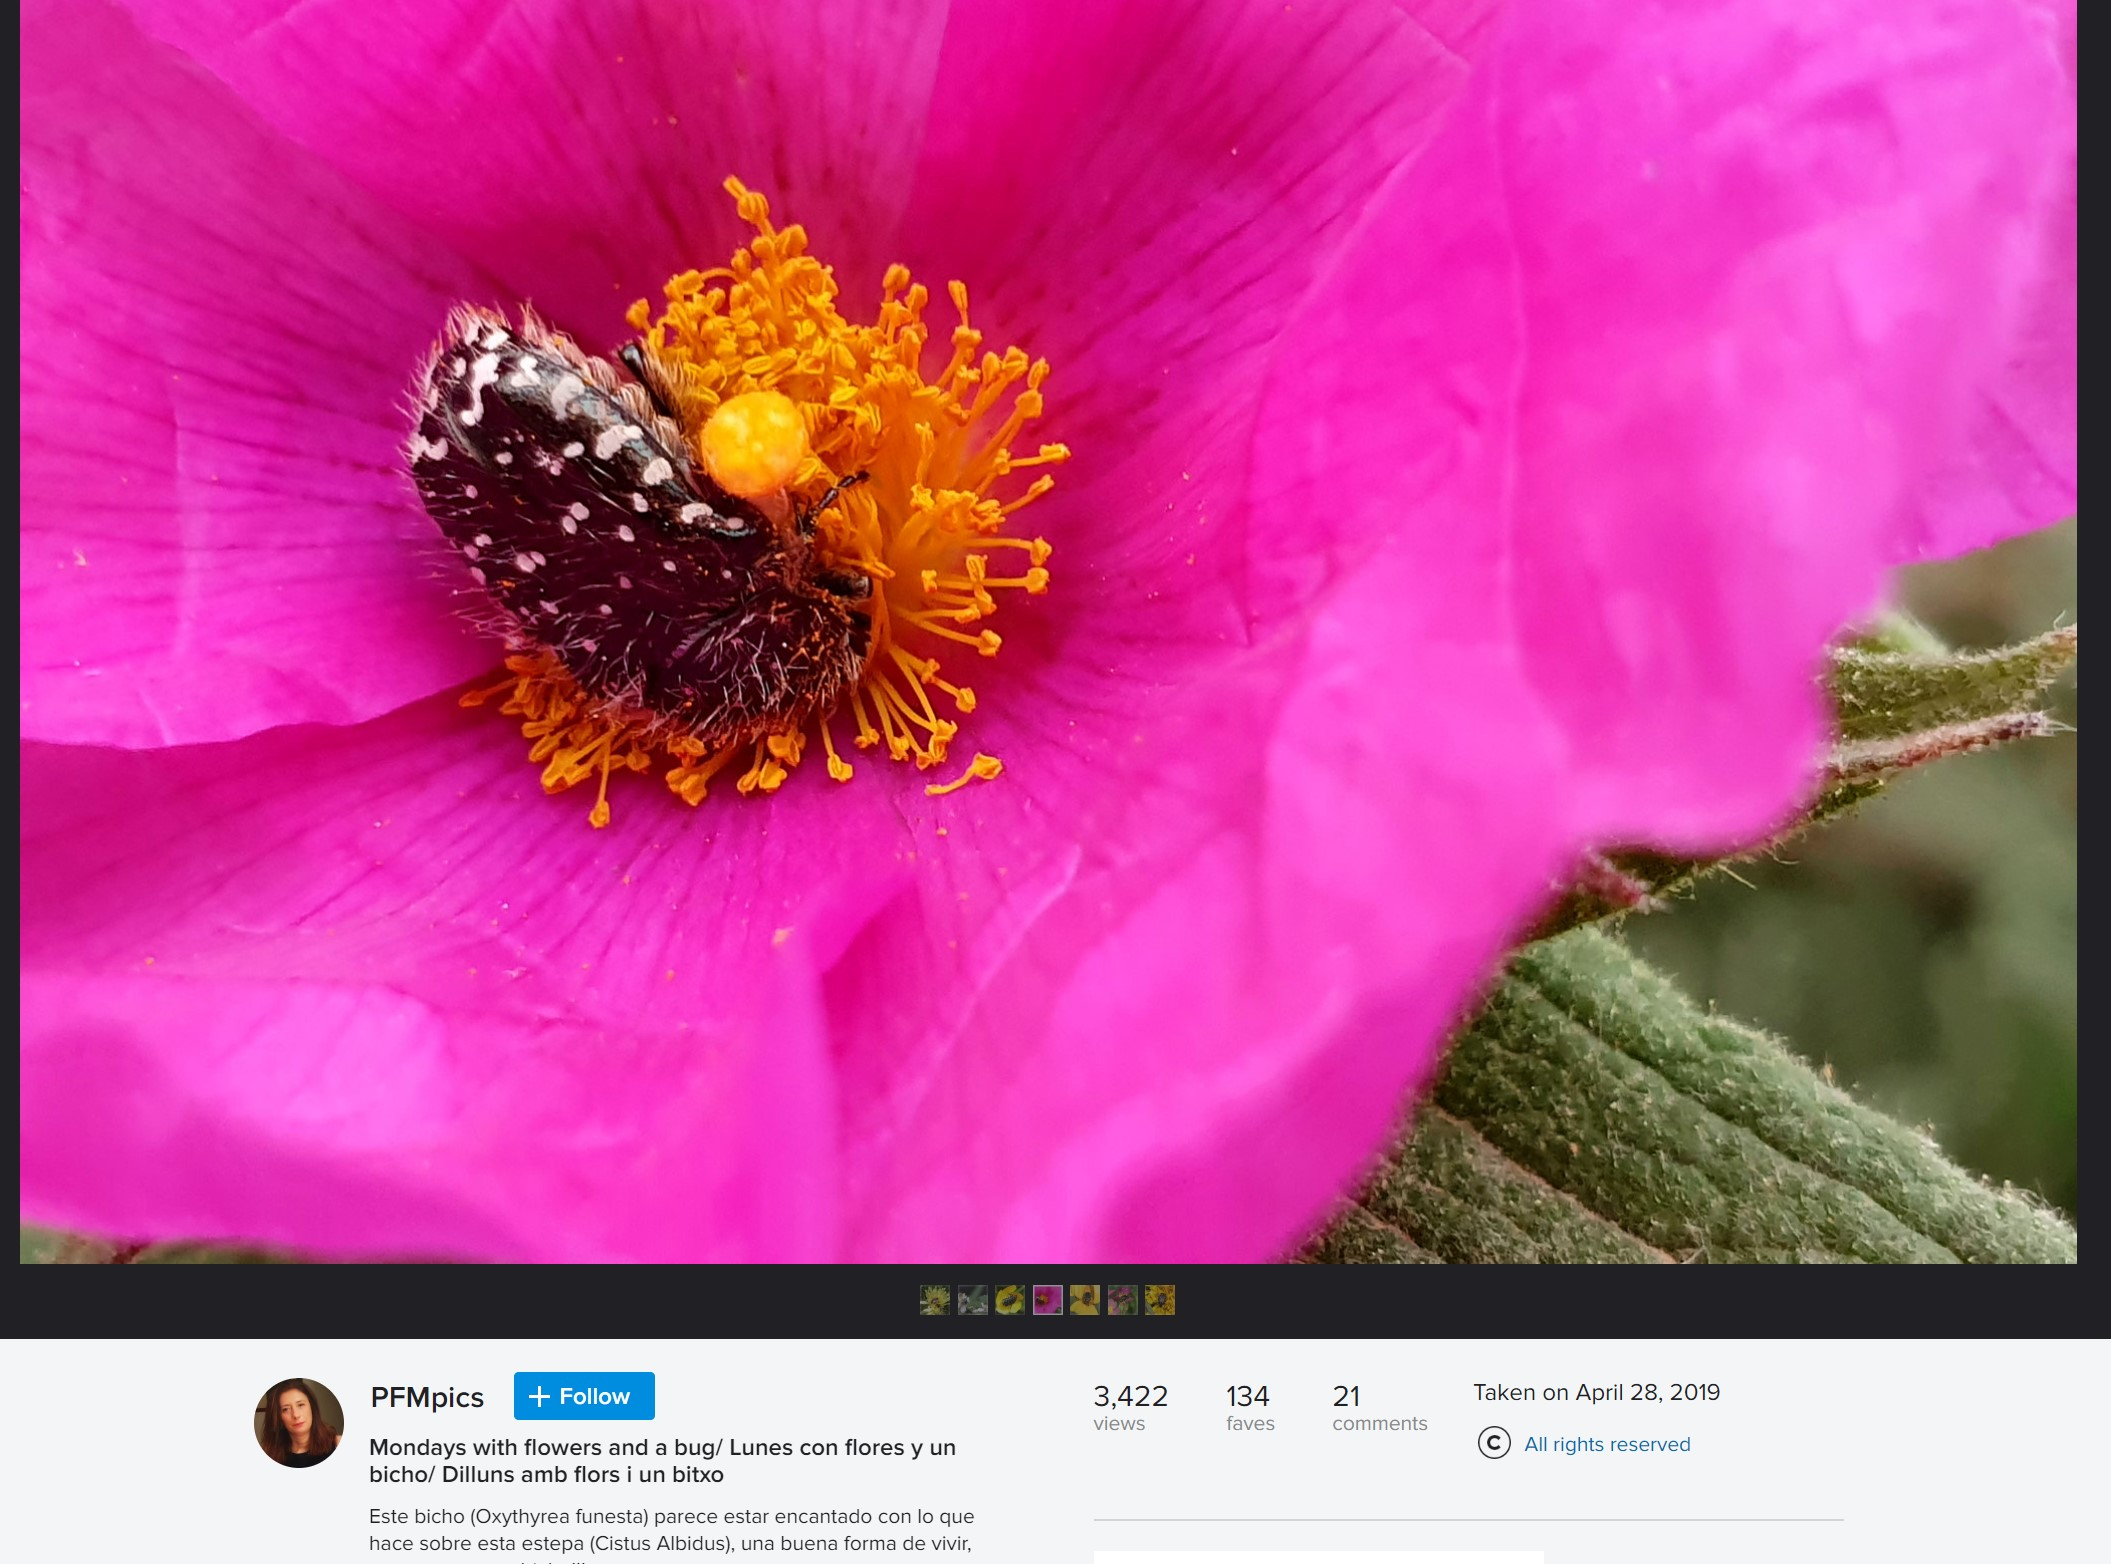Oxythyrea_funesta: (393, 276, 879, 808)
